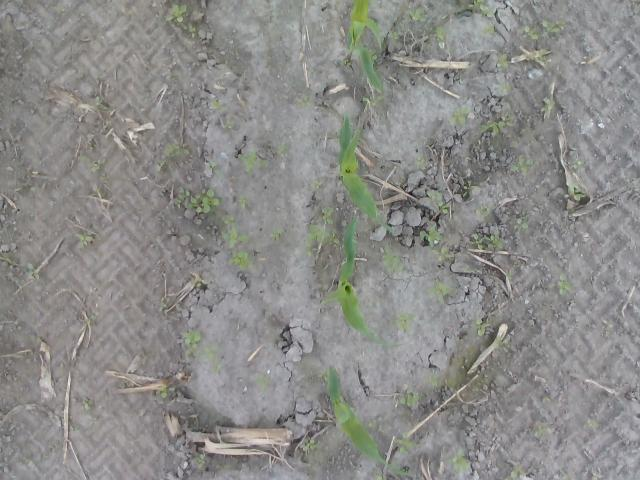Maize: (314, 218, 406, 348), (327, 364, 417, 478), (340, 114, 398, 234), (346, 1, 386, 96)
Weeds: (420, 226, 453, 264), (166, 4, 202, 38), (304, 222, 339, 256), (177, 188, 220, 214), (80, 157, 108, 195), (524, 21, 566, 42), (157, 144, 188, 172), (220, 216, 247, 248), (479, 118, 514, 138), (472, 234, 504, 252), (178, 330, 200, 356), (228, 249, 252, 272), (382, 249, 402, 276), (429, 280, 456, 300), (450, 449, 471, 474), (427, 190, 448, 214), (239, 150, 264, 170), (469, 0, 494, 18), (203, 344, 220, 370), (512, 156, 534, 176), (396, 312, 414, 334), (406, 7, 426, 25), (450, 107, 470, 125), (399, 393, 419, 409), (558, 274, 571, 296), (76, 232, 96, 246), (476, 317, 490, 337), (509, 465, 526, 480), (159, 384, 176, 399), (570, 185, 584, 203), (256, 376, 270, 392), (492, 52, 507, 66), (302, 441, 319, 453), (435, 25, 446, 42), (268, 228, 282, 241), (476, 208, 491, 220), (321, 208, 334, 221), (196, 452, 205, 470), (498, 338, 510, 351), (541, 98, 552, 112), (210, 98, 224, 109), (276, 142, 288, 154), (238, 195, 248, 208), (83, 397, 93, 410), (514, 220, 526, 228), (27, 261, 36, 270), (500, 84, 510, 92)
